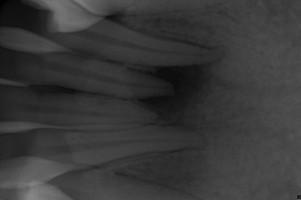Furcation Involvement: (136, 63, 215, 126)
